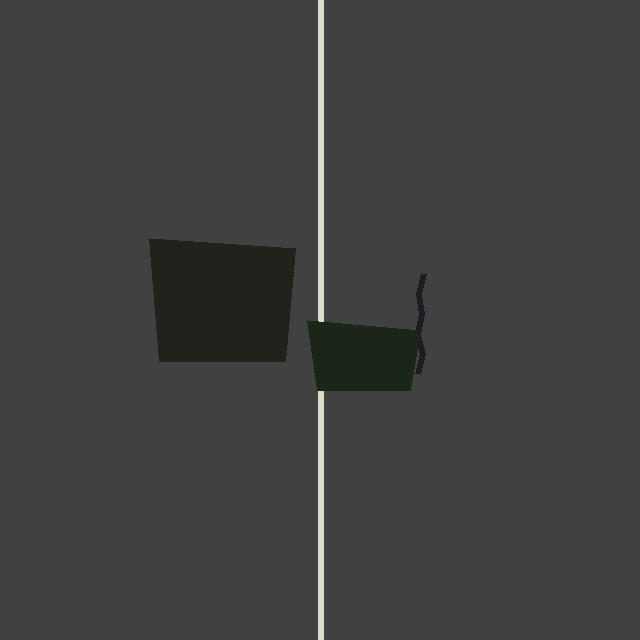damaged_surface: (149, 238, 295, 361), (307, 320, 420, 390)
longitudinal_crack: (419, 274, 484, 376)
